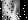person: (3, 1, 21, 20)
